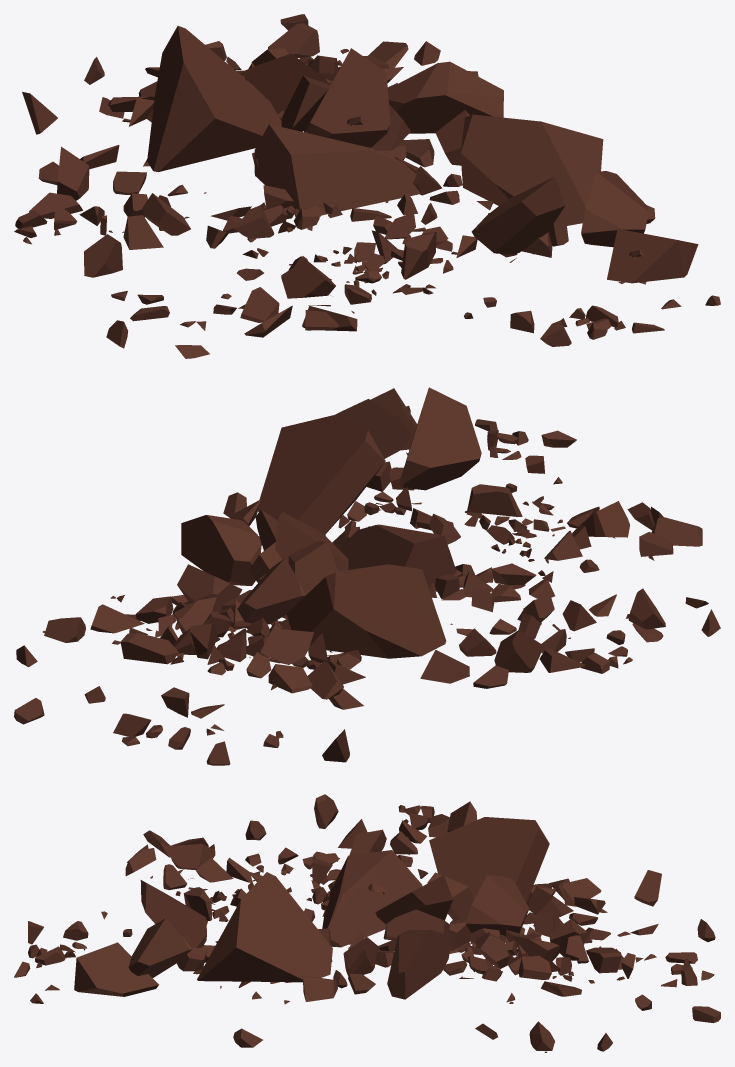
File: Macerie.obj
3 views of the same model, one above another, from view 1: azimuth 30°, elevation 25°; view 2: azimuth 150°, elevation 25°; view 3: azimuth 270°, elevation 25° (orthographic). The views are drawn at different scales.
Parts seen in each view (by area): view 1: Cube.072_cell.027_cell.005_cell.003; view 2: Cube.072_cell.027_cell.005_cell.003; view 3: Cube.072_cell.027_cell.005_cell.003.
Part boxes in pixels (x1=…): Cube.072_cell.027_cell.005_cell.003: x1=14, y1=14, x2=720, y2=358; Cube.072_cell.027_cell.005_cell.003: x1=14, y1=387, x2=720, y2=765; Cube.072_cell.027_cell.005_cell.003: x1=14, y1=794, x2=720, y2=1052.
Size of the model in its own units: 13.02 by 3.25 by 17.9.
